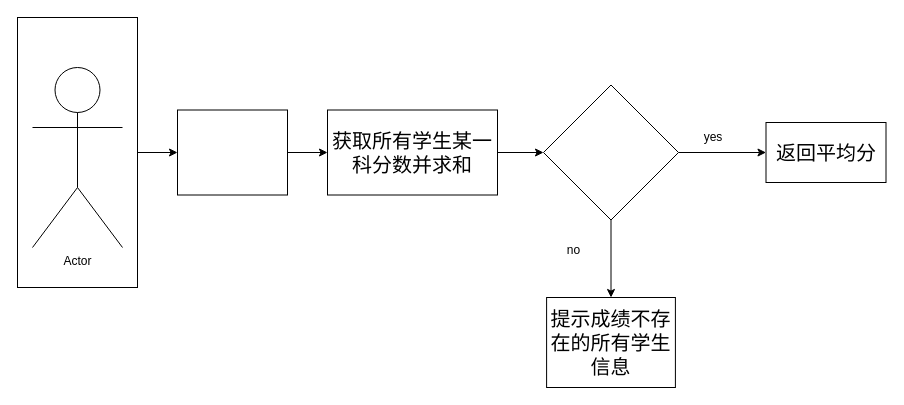
Some shapes in this 904 by 405 pixel diagram are drawn without their labels. The shapes that lost their labels are listed below. From the top down, each one's centre as x and y in pixels, then its label:
At point 232,152: "科目名称".
At point 610,152: "分数都存在".
